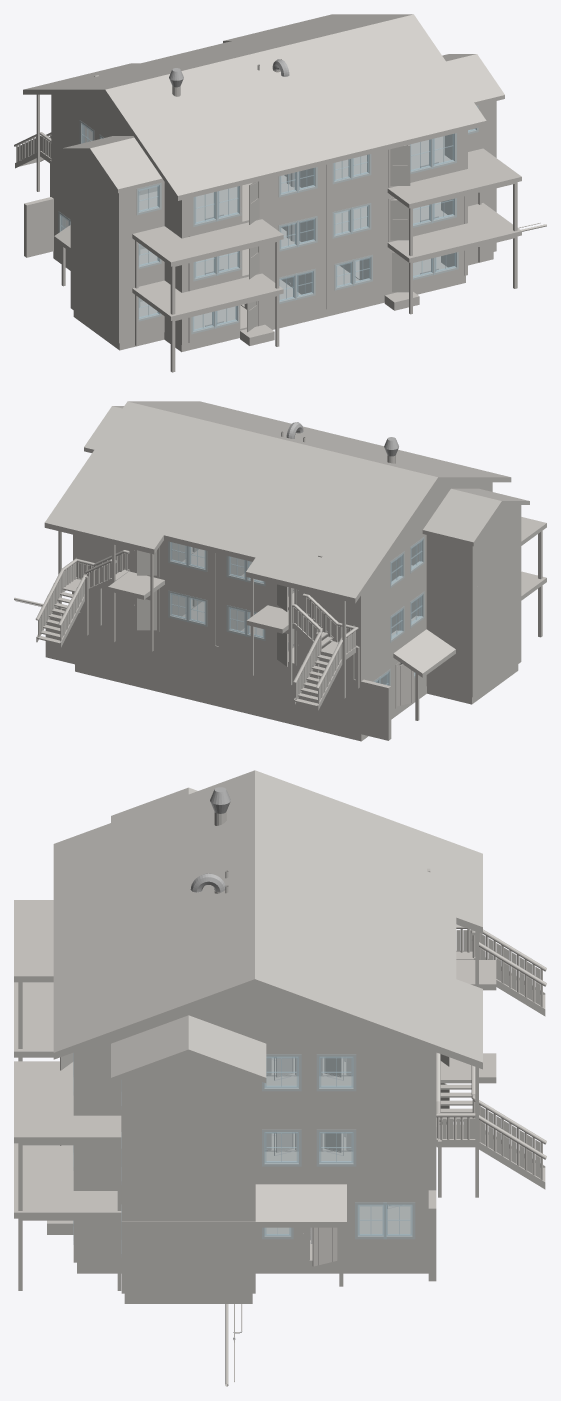
The picture shows the model from 3 angles, top to bottom: view 1: azimuth 30°, elevation 25°; view 2: azimuth 150°, elevation 25°; view 3: azimuth 270°, elevation 25°; orthographic projection. The views are drawn at different scales.
Visible parts, largest first — view 1: 2u9gYONfr8zPTBmskJetY8, 2bHsXOtrP50Bfel_b6rZaG, 0NrYinMXn7h9nEZvYPh1ba, 3hjhkoF195BhMKg4qh0KVI, 3lz2jlvGT7WAYbUOuWaG8D, 0EzPHAlEn9OR4tQ6XfuTTl, 1AzT9qobHFuvSuz$CWjGxC, 1TzGogCCX8ggtaTHTy5cDF, 1xELskQF15pAF2KSDrvaGO, 3TW_IUdYj4ABMkmQu0uLsA, 3XTrQ9G412Uem805lbq8eg, 3hlqGeZbL4rx2uIE4uyWtY (+52 smaller); view 2: 0EzPHAlEn9OR4tQ6XfuTTl, 3XTrQ9G412Uem805lbq8eg, 0oMH6i3MX4lPzFQxGnO3xw, 1Rt5OjTjL2$AfuetFZcWc8, 1QMYrSdHfB$Pm5jQBpaBR8, 2rKKqX1QnFkOTeJeD0igI_, 1QmUIxD31BOhMeCiPN8mDa, 2u9gYONfr8zPTBmskJetY8, 00d4iiUt17Muy4K35k$QmI, 2Sq8ZoHUv2VQ$av7o1WZkp, 2DDK9Nhx5FJPcjn2QVlapP, 3X7mN8pcL1YgwhYG_kRt$y (+33 smaller); view 3: 3XTrQ9G412Uem805lbq8eg, 0EzPHAlEn9OR4tQ6XfuTTl, 2bHsXOtrP50Bfel_b6rZaG, 2u9gYONfr8zPTBmskJetY8, 0U8GVzFCX83uyzrnLCu5Bp, 2diovLQw51VA2MKgpPMPC5, 20b$dknOTDF9uZcNQuUFnj, 2kLNkKfan7OhZEqWpe$_tm, 323bnnP0v2sQf$beTg3xjB, 1TzGogCCX8ggtaTHTy5cDF, 1iOXBSm958gfuCo_YSxacu, 1QmUIxD31BOhMeCiPN8mDa (+28 smaller).
Boxes of the visible parts, x1,y1,x2,y2 form: 2u9gYONfr8zPTBmskJetY8: (105, 52, 332, 200); 2bHsXOtrP50Bfel_b6rZaG: (260, 14, 486, 163); 0NrYinMXn7h9nEZvYPh1ba: (132, 219, 283, 266); 3hjhkoF195BhMKg4qh0KVI: (326, 170, 460, 256); 3lz2jlvGT7WAYbUOuWaG8D: (132, 273, 283, 320); 0EzPHAlEn9OR4tQ6XfuTTl: (23, 52, 258, 94); 1AzT9qobHFuvSuz$CWjGxC: (326, 224, 460, 309); 1TzGogCCX8ggtaTHTy5cDF: (387, 148, 521, 208); 1xELskQF15pAF2KSDrvaGO: (387, 203, 521, 262); 3TW_IUdYj4ABMkmQu0uLsA: (188, 204, 322, 290); 3XTrQ9G412Uem805lbq8eg: (188, 14, 412, 51); 3hlqGeZbL4rx2uIE4uyWtY: (188, 258, 322, 342); 0EzPHAlEn9OR4tQ6XfuTTl: (209, 439, 438, 603); 3XTrQ9G412Uem805lbq8eg: (44, 401, 282, 554); 0oMH6i3MX4lPzFQxGnO3xw: (217, 646, 391, 740); 1Rt5OjTjL2$AfuetFZcWc8: (45, 606, 216, 698); 1QMYrSdHfB$Pm5jQBpaBR8: (292, 593, 358, 710); 2rKKqX1QnFkOTeJeD0igI_: (80, 558, 215, 645); 1QmUIxD31BOhMeCiPN8mDa: (35, 550, 129, 647); 2u9gYONfr8zPTBmskJetY8: (283, 439, 511, 482); 00d4iiUt17Muy4K35k$QmI: (361, 579, 426, 681); 2Sq8ZoHUv2VQ$av7o1WZkp: (219, 592, 354, 679); 2DDK9Nhx5FJPcjn2QVlapP: (422, 488, 501, 546); 3X7mN8pcL1YgwhYG_kRt$y: (363, 525, 426, 624); 3XTrQ9G412Uem805lbq8eg: (255, 875, 482, 1069); 0EzPHAlEn9OR4tQ6XfuTTl: (255, 770, 482, 947); 2bHsXOtrP50Bfel_b6rZaG: (53, 875, 254, 1059); 2u9gYONfr8zPTBmskJetY8: (53, 770, 254, 947); 0U8GVzFCX83uyzrnLCu5Bp: (255, 1115, 436, 1190); 2diovLQw51VA2MKgpPMPC5: (255, 1040, 428, 1114); 20b$dknOTDF9uZcNQuUFnj: (121, 1146, 255, 1220); 2kLNkKfan7OhZEqWpe$_tm: (121, 1071, 255, 1145); 323bnnP0v2sQf$beTg3xjB: (121, 1221, 255, 1293); 1TzGogCCX8ggtaTHTy5cDF: (14, 1061, 121, 1143); 1iOXBSm958gfuCo_YSxacu: (255, 1190, 428, 1262); 1QmUIxD31BOhMeCiPN8mDa: (436, 1052, 546, 1189).
Size of the model in its own units: 25.18 by 12.74 by 17.83.
